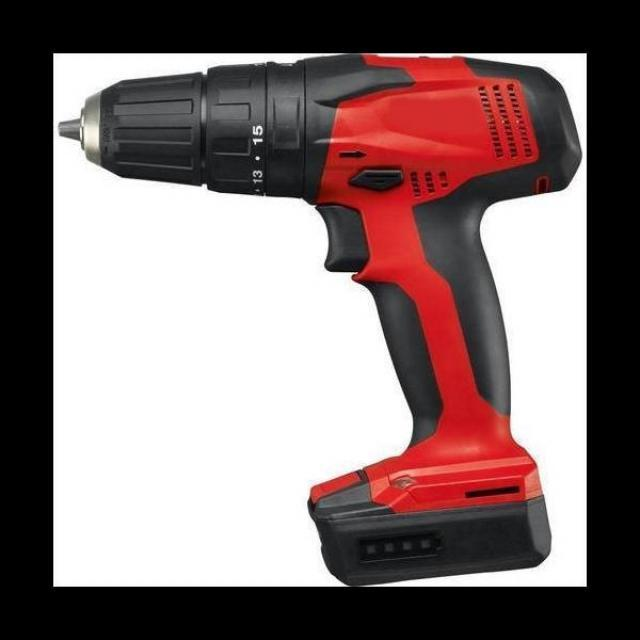drill: (55, 53, 583, 588)
